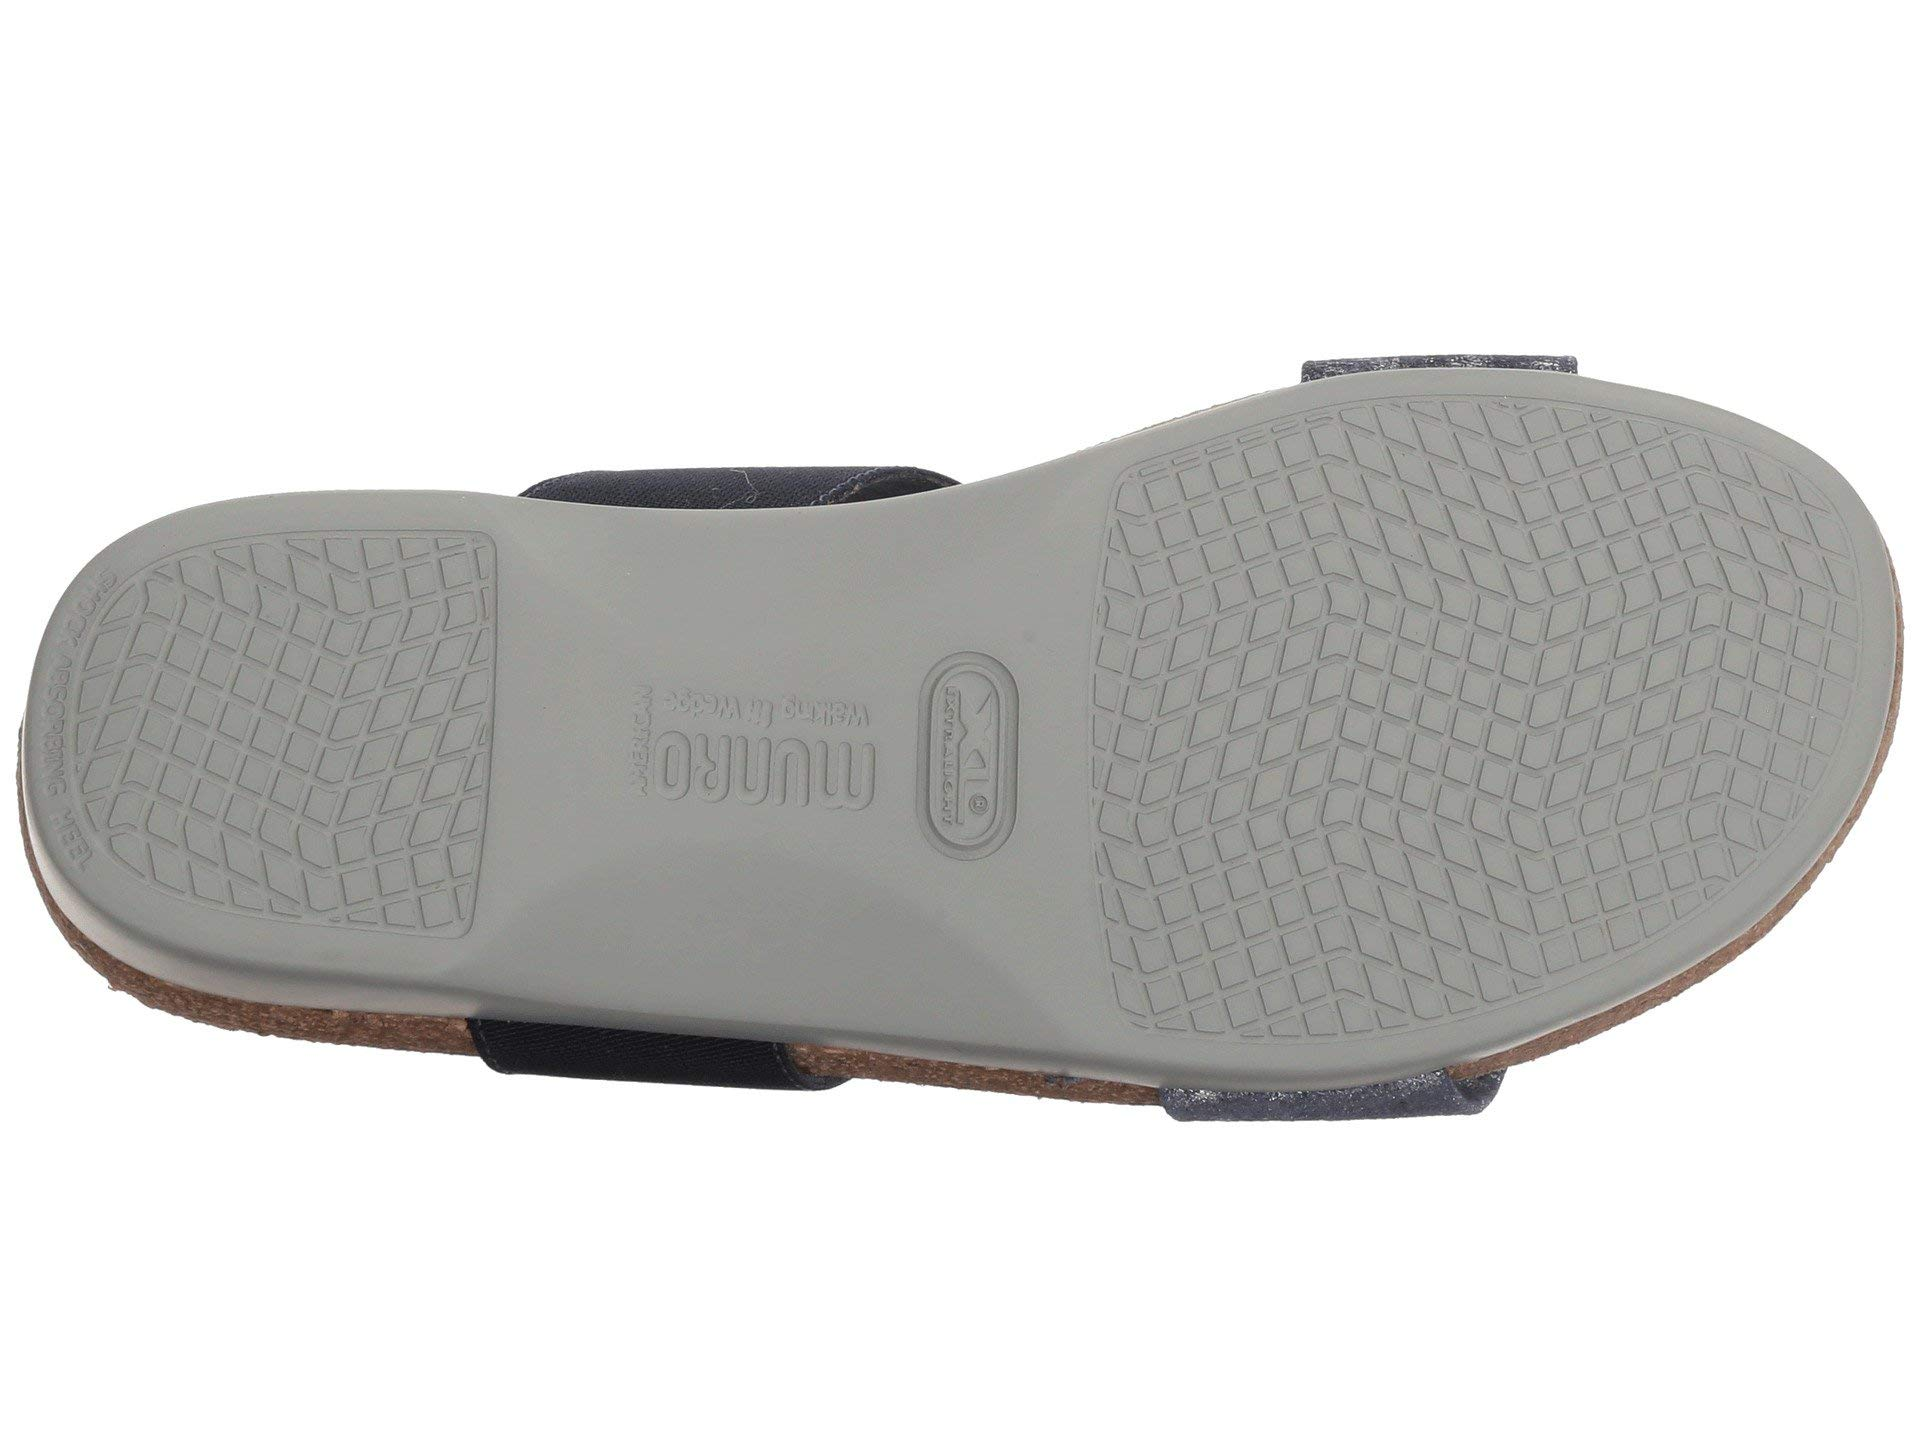chevron: (1147, 434, 1740, 926)
circle: (605, 649, 895, 867), (909, 628, 1031, 880)
line: (909, 628, 1031, 880)
quad: (1147, 434, 1740, 926), (605, 649, 895, 867), (909, 628, 1031, 880)
text: (909, 628, 1031, 880)
